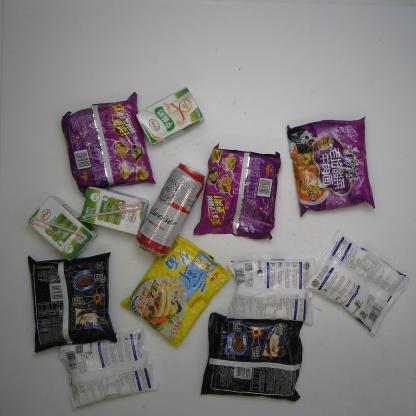Alcohol: (133, 162, 206, 260)
Instant Noodles: (118, 234, 232, 349), (278, 115, 378, 218), (58, 92, 158, 194), (199, 312, 305, 404), (25, 251, 118, 355), (190, 142, 286, 241)
Milk: (26, 195, 100, 262), (134, 86, 206, 148), (78, 186, 151, 236)
Seasoner: (303, 228, 411, 336), (58, 325, 160, 411), (225, 254, 316, 324)
